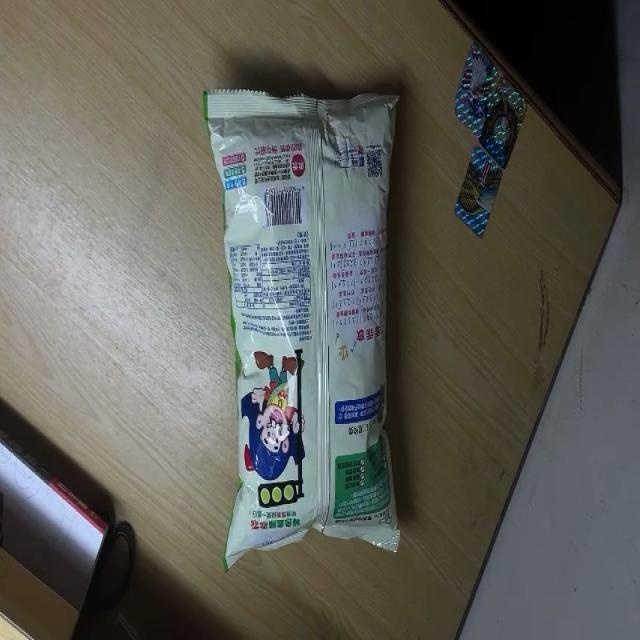Good-Luck: (201, 87, 402, 575)
